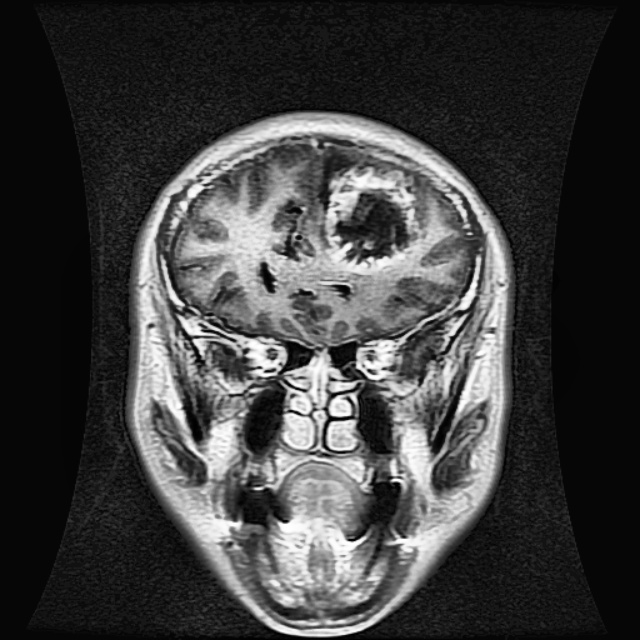Meningioma: (320, 154, 425, 274)
